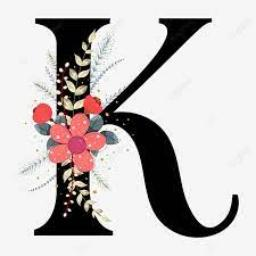k: (30, 6, 246, 250)
